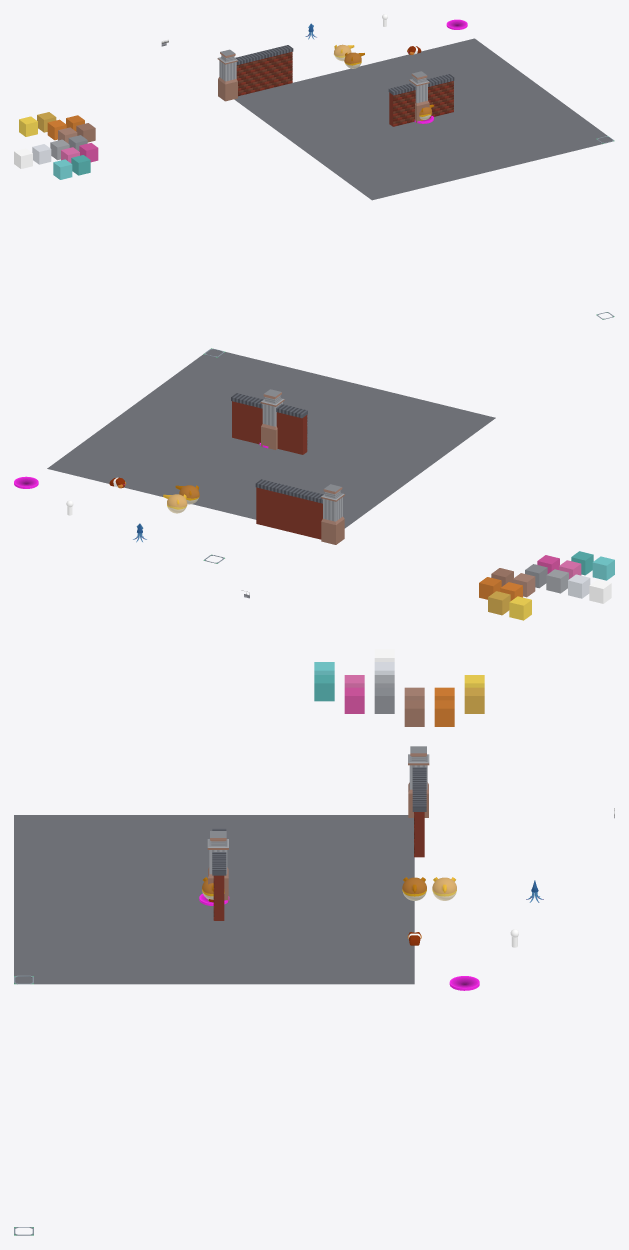
File: hamster.glb
The picture shows the model from 3 angles, top to bottom: view 1: azimuth 30°, elevation 25°; view 2: azimuth 150°, elevation 25°; view 3: azimuth 270°, elevation 25°; orthographic projection. The views are drawn at different scales.
Visible parts, largest first — view 1: floor01, Plane.001, Plane, wallPillar.001, wallPillar; view 2: floor01, Plane.001, Plane, wallPillar.001, wallPillar, Cube.010, Cube.015, Cube.012, Cube.013, Cube.014, Cube.007, Cube.003; view 3: floor01, Plane.001, Plane, wallPillar.001.
Boxes of the visible parts, x1,y1,x2,y2 form: floor01: (234, 38, 612, 200); Plane.001: (235, 45, 293, 96); Plane: (388, 74, 454, 126); wallPillar.001: (217, 49, 237, 101); wallPillar: (409, 71, 429, 122); floor01: (47, 349, 495, 528); Plane.001: (255, 479, 323, 539); Plane: (231, 393, 307, 454); wallPillar.001: (321, 484, 344, 544); wallPillar: (260, 389, 284, 449); Cube.010: (592, 556, 614, 580); Cube.015: (509, 596, 531, 620); Cube.012: (589, 579, 611, 603); Cube.013: (568, 574, 590, 598); Cube.014: (488, 591, 510, 615); Cube.007: (546, 569, 568, 593); Cube.003: (479, 577, 501, 599); floor01: (14, 815, 414, 984); Plane.001: (412, 767, 426, 857); Plane: (212, 828, 226, 920); wallPillar.001: (408, 746, 429, 817).
Size of the model in its own units: 78.5 by 34.66 by 60.
